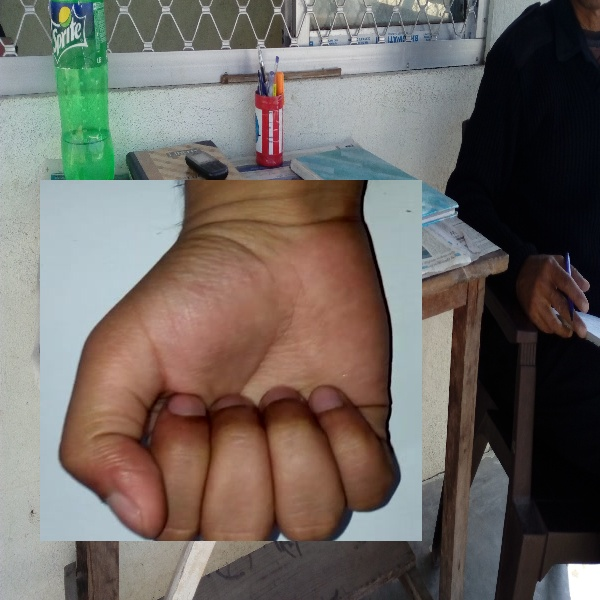A: (40, 180, 422, 541)
